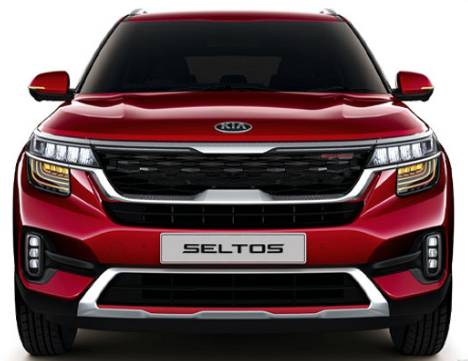car: (10, 6, 456, 359)
